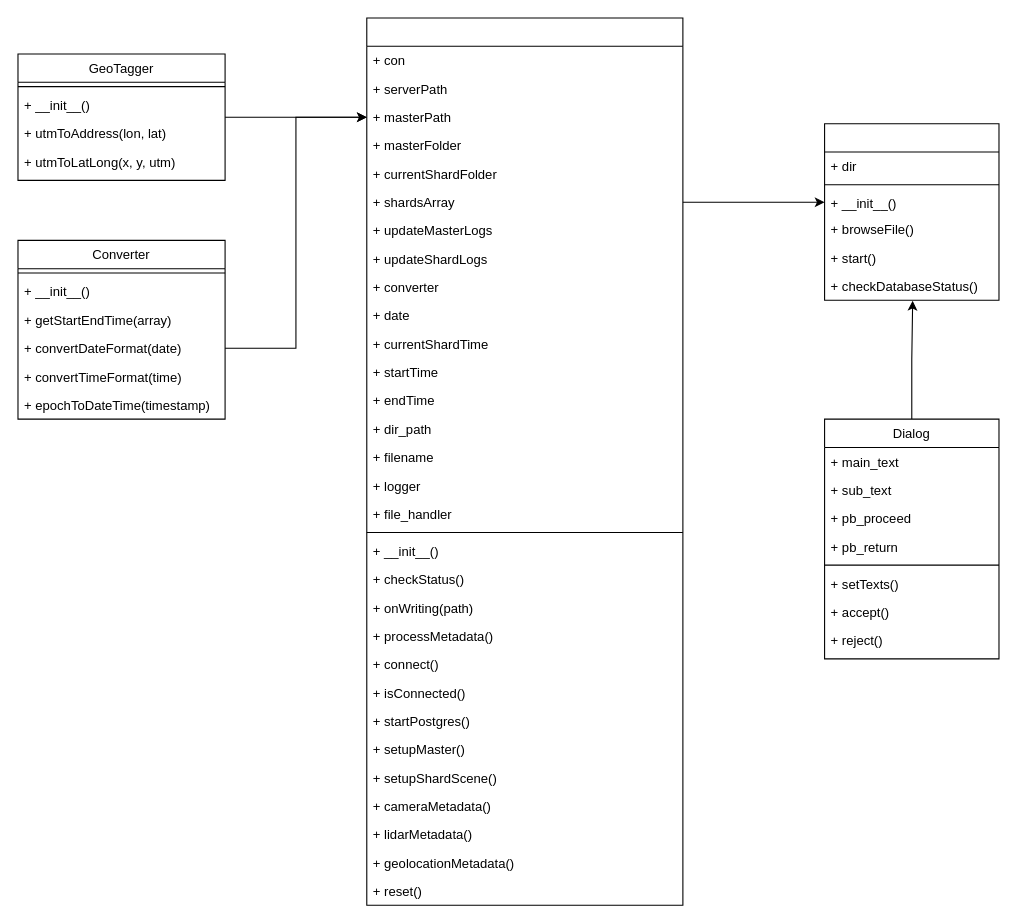
The diagram is 1017 pixels wide and 923 high, and some of its shapes have lost their labels. Each missing label, with the box of its shape:
App: (823, 123, 999, 300)
Main: (366, 17, 683, 905)
